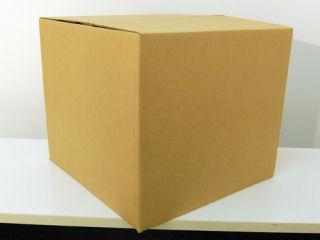box: (35, 15, 294, 231)
